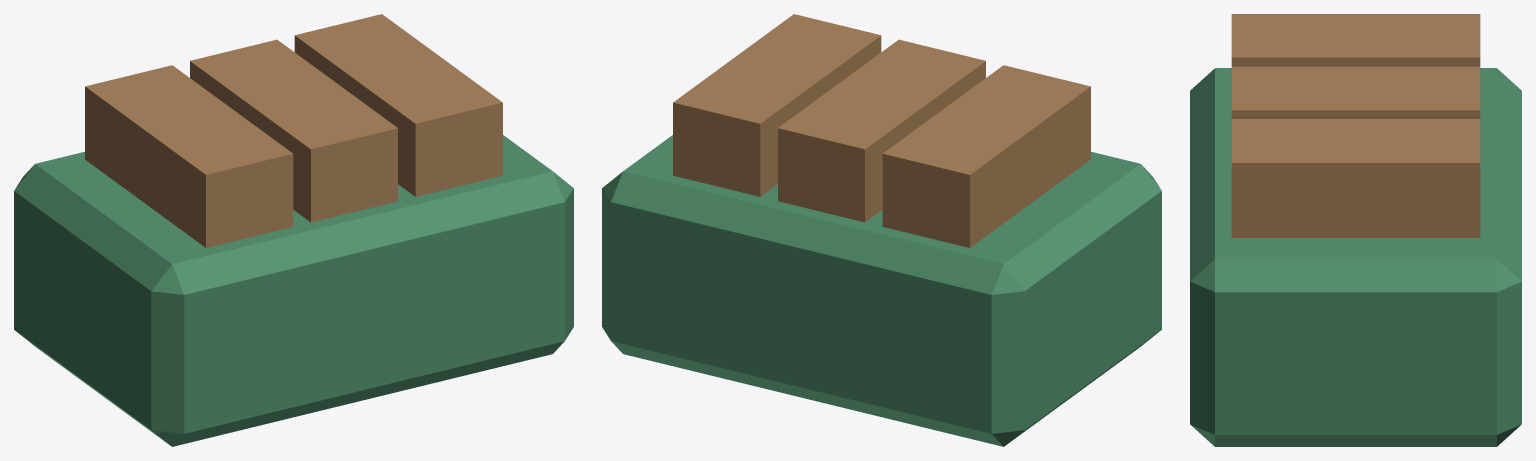
File: set_insulated_box.glb
3 views of the same model, side by side, from view 1: azimuth 30°, elevation 25°; view 2: azimuth 150°, elevation 25°; view 3: azimuth 270°, elevation 25° (orthographic). The views are drawn at different scales.
Visible parts, largest first — view 1: set_insulated_box; view 2: set_insulated_box; view 3: set_insulated_box.
Part boxes in pixels (x1=…): set_insulated_box: x1=14, y1=14, x2=573, y2=446; set_insulated_box: x1=602, y1=14, x2=1161, y2=446; set_insulated_box: x1=1190, y1=14, x2=1521, y2=446.
Bounding box in the file's own units: 0.242 × 0.14 × 0.16.
